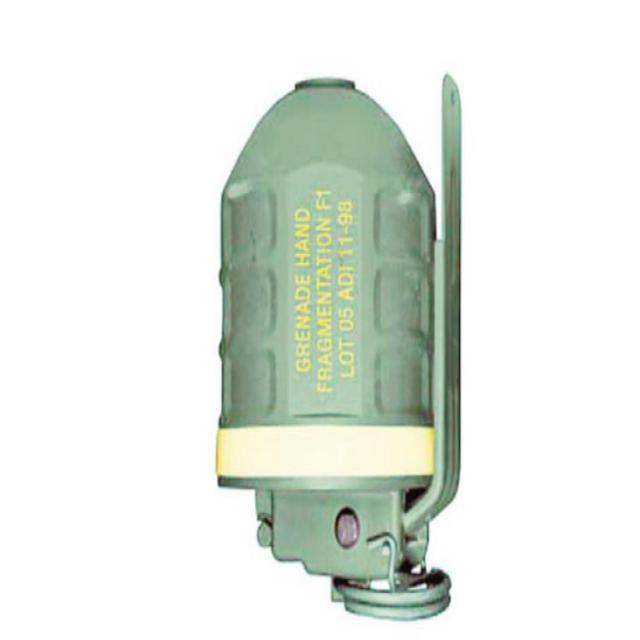grenade: (216, 72, 462, 621)
